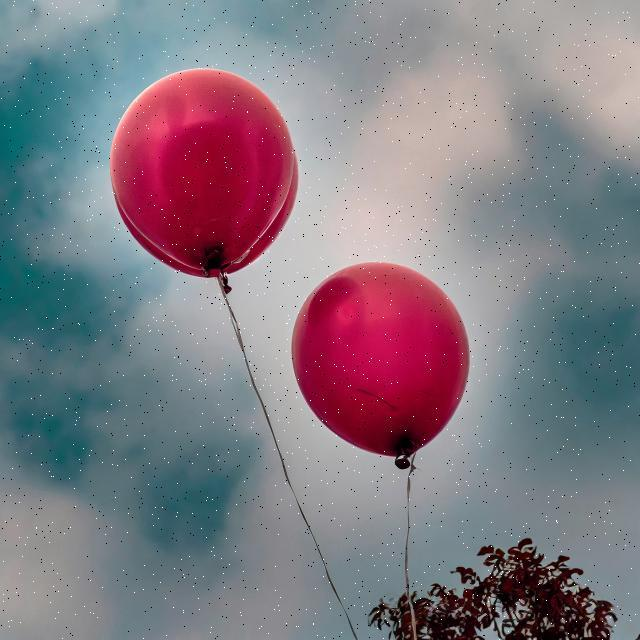red: (108, 66, 298, 290), (290, 260, 470, 470)
